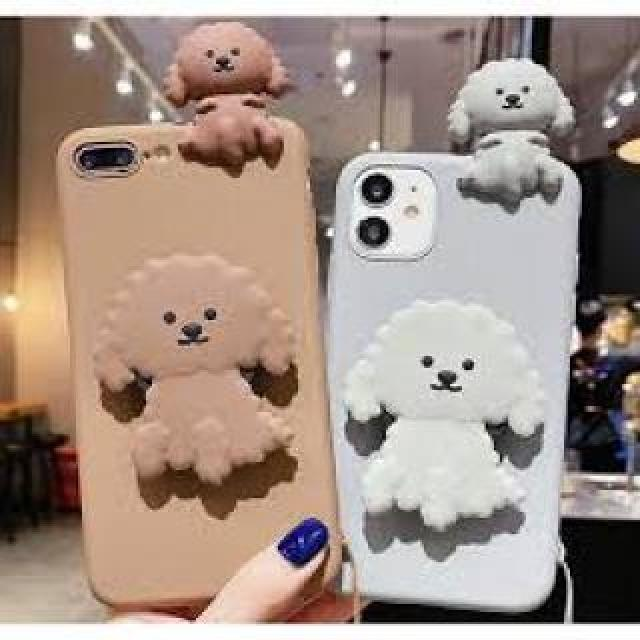smart phone: (42, 92, 333, 605), (342, 127, 590, 623)
